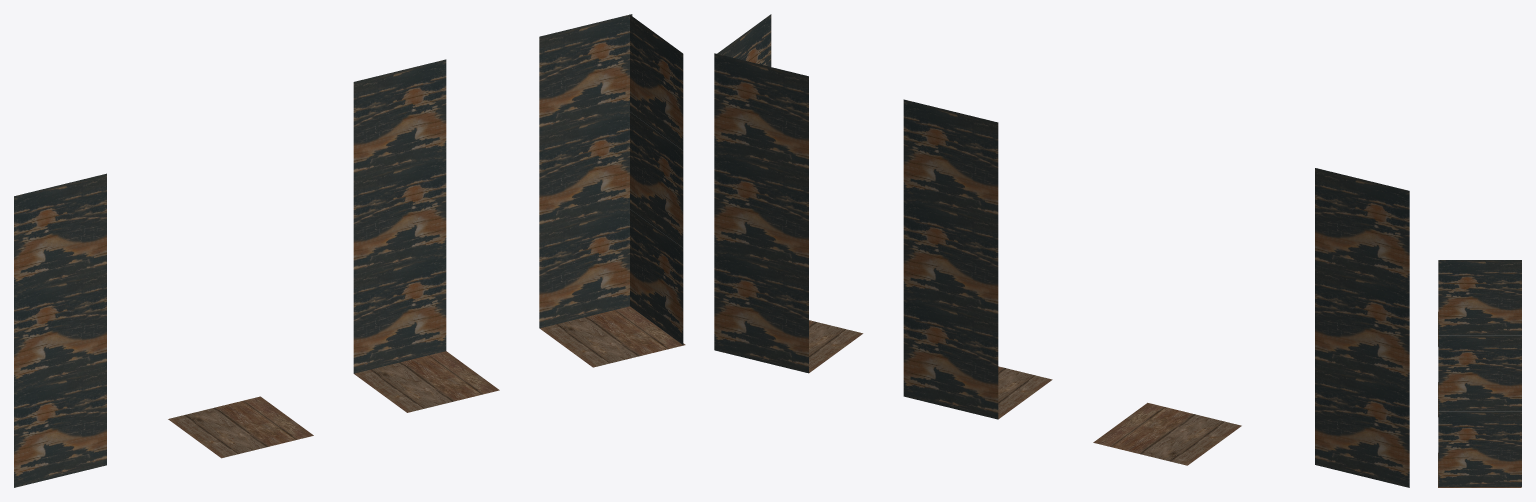
Rendered from tileset.glb.
The picture shows the model from 3 angles, left to right: view 1: azimuth 30°, elevation 25°; view 2: azimuth 150°, elevation 25°; view 3: azimuth 270°, elevation 25°; orthographic projection. The views are drawn at different scales.
Parts seen in each view (by area): view 1: cornor, wall_floor, wall, floor; view 2: cornor, wall_floor, wall, floor; view 3: cornor.
Boxes of the visible parts, x1,y1,x2,y2 form: cornor: [539, 14, 685, 367]; wall_floor: [353, 59, 499, 412]; wall: [14, 173, 106, 487]; floor: [168, 396, 313, 458]; cornor: [714, 14, 863, 373]; wall_floor: [903, 99, 1052, 419]; wall: [1315, 168, 1409, 487]; floor: [1093, 402, 1241, 465]; cornor: [1438, 260, 1521, 487].
Bounding box in the file's own units: 7 × 3 × 1.
Materials: 1 (1 with a texture image).
